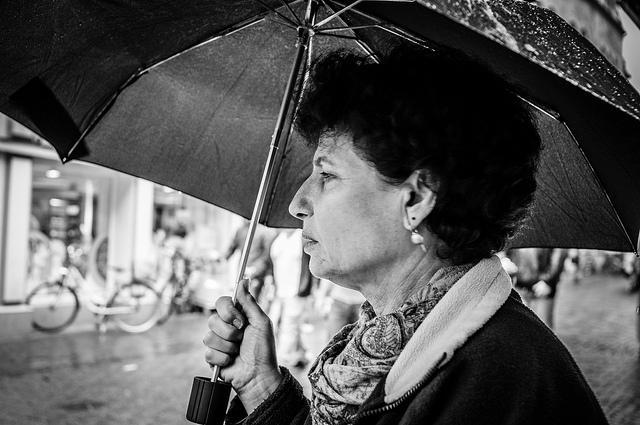bicycle: (29, 244, 162, 336)
